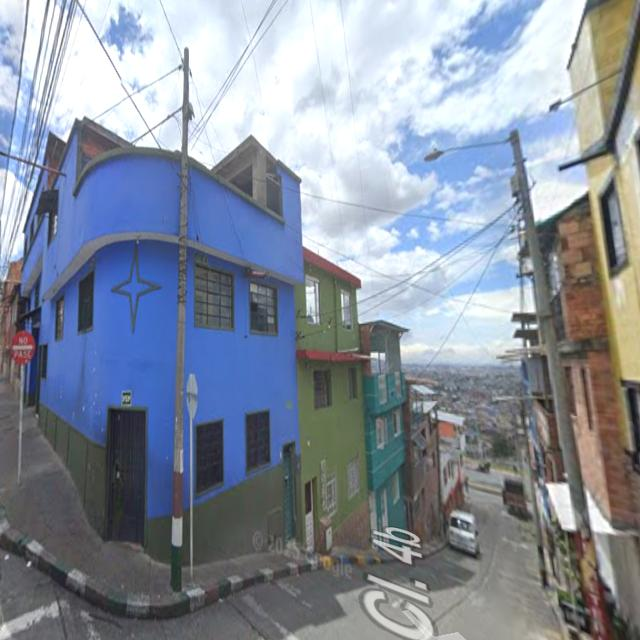fachada: (22, 120, 181, 560), (562, 0, 639, 533), (538, 196, 635, 594), (296, 248, 369, 551), (360, 321, 407, 531), (404, 380, 442, 541), (437, 410, 465, 522), (0, 260, 22, 393)
poste: (510, 131, 588, 530), (172, 48, 189, 591), (18, 365, 24, 484), (190, 417, 193, 583)
